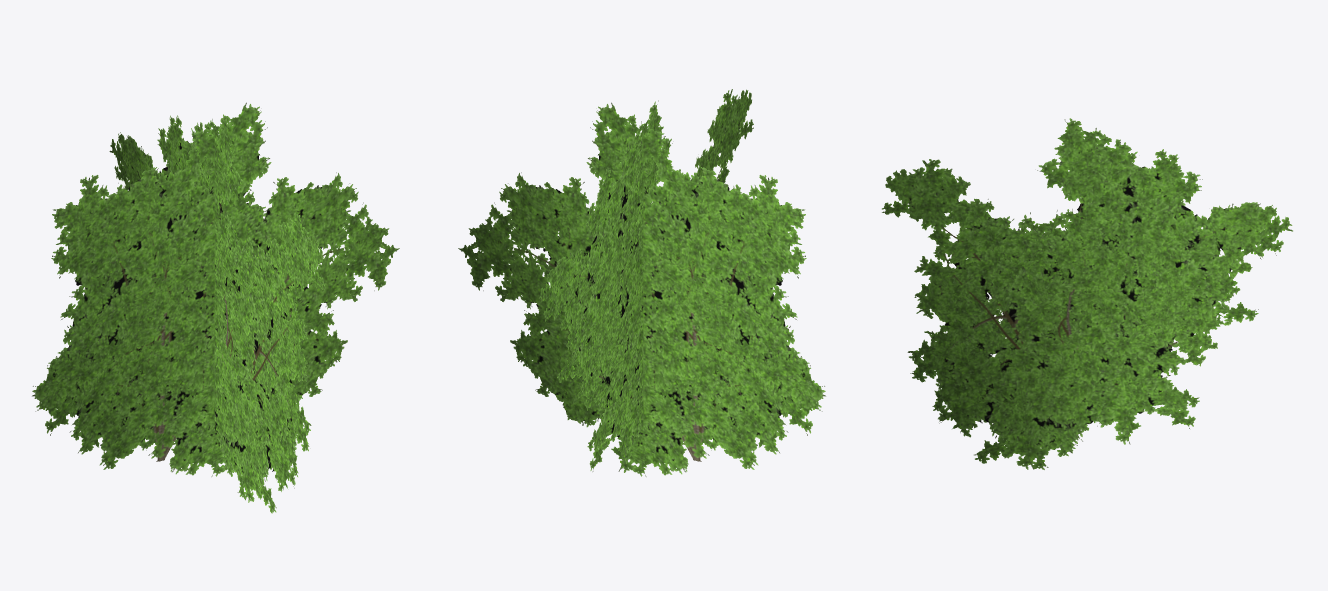
The model's file is bush_lod2.glb.
3 views of the same model, side by side, from view 1: azimuth 30°, elevation 25°; view 2: azimuth 150°, elevation 25°; view 3: azimuth 270°, elevation 25° (orthographic). The views are drawn at different scales.
Visible parts, largest first — view 1: card0, card1; view 2: card0, card1; view 3: card1.
Boxes of the visible parts, x1,y1,x2,y2 form: card0: [32, 102, 399, 476]; card1: [109, 115, 324, 513]; card0: [458, 102, 825, 476]; card1: [538, 89, 753, 471]; card1: [882, 118, 1292, 469].
Bounding box in the file's own units: 2.61 × 2.45 × 2.61.
Materials: 2 (2 with a texture image).
